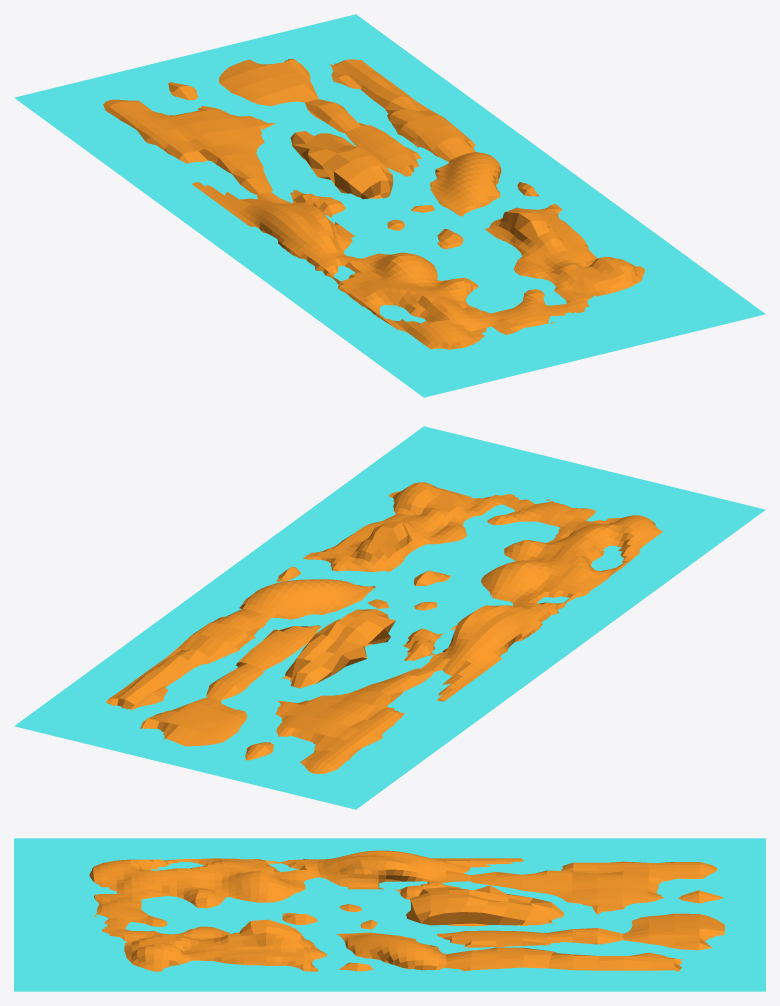
The model's file is ground environmentA.fbx.
The picture shows the model from 3 angles, top to bottom: view 1: azimuth 30°, elevation 25°; view 2: azimuth 150°, elevation 25°; view 3: azimuth 270°, elevation 25°; orthographic projection. The views are drawn at different scales.
Visible parts, largest first — view 1: Plane, Plane.001; view 2: Plane, Plane.001; view 3: Plane, Plane.001.
Part boxes in pixels (bbox=[...]): Plane: bbox=[14, 14, 765, 397]; Plane.001: bbox=[103, 59, 644, 349]; Plane: bbox=[14, 426, 765, 809]; Plane.001: bbox=[106, 482, 662, 773]; Plane: bbox=[14, 838, 765, 991]; Plane.001: bbox=[89, 850, 724, 971].
Bounding box in the file's own units: 120091 × 15144 × 249266.
1 material, 1 textured.
